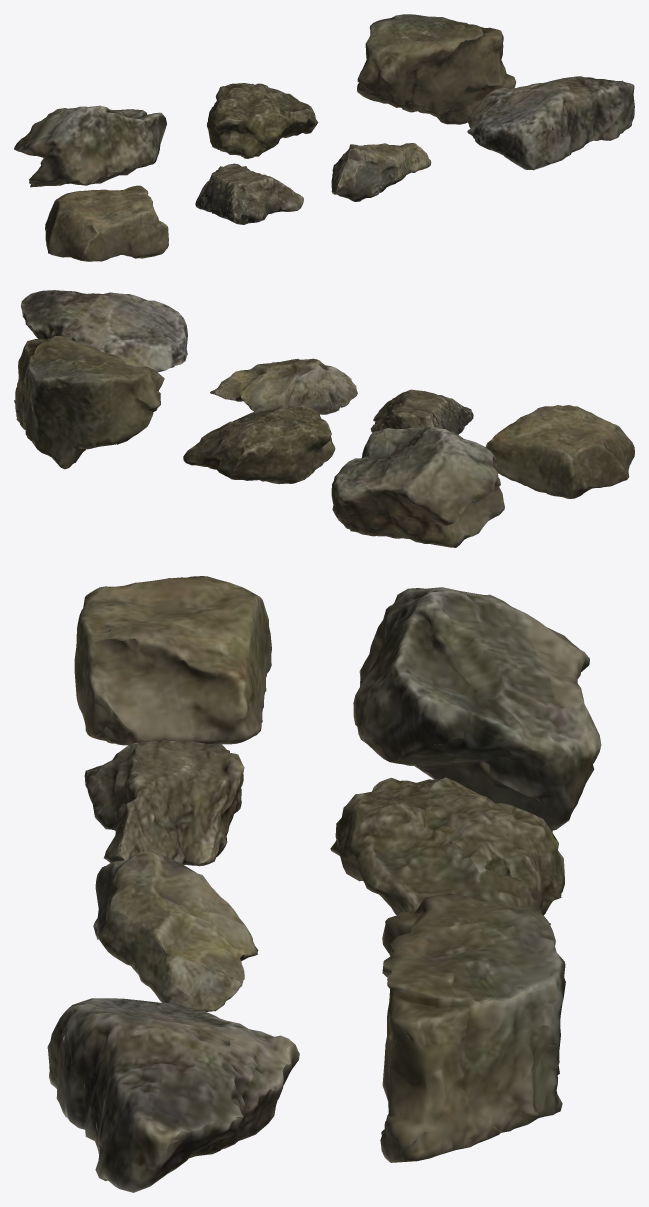
File: rock_moss_set_02.glb
3 renders of one model, top to bottom at view 1: azimuth 30°, elevation 25°; view 2: azimuth 150°, elevation 25°; view 3: azimuth 270°, elevation 25°, orthographic. The views are drawn at different scales.
Visible parts, largest first — view 1: rock_moss_set_02_rock13, rock_moss_set_02_rock10, rock_moss_set_02_rock11, rock_moss_set_02_rock07, rock_moss_set_02_rock12, rock_moss_set_02_rock08, rock_moss_set_02_rock09; view 2: rock_moss_set_02_rock11, rock_moss_set_02_rock13, rock_moss_set_02_rock07, rock_moss_set_02_rock10, rock_moss_set_02_rock12, rock_moss_set_02_rock09, rock_moss_set_02_rock08; view 3: rock_moss_set_02_rock13, rock_moss_set_02_rock11, rock_moss_set_02_rock10, rock_moss_set_02_rock07, rock_moss_set_02_rock12, rock_moss_set_02_rock09, rock_moss_set_02_rock08.
Part boxes in pixels (x1=…): rock_moss_set_02_rock13: x1=357, y1=14, x2=516, y2=124; rock_moss_set_02_rock10: x1=467, y1=76, x2=634, y2=170; rock_moss_set_02_rock11: x1=14, y1=105, x2=166, y2=187; rock_moss_set_02_rock07: x1=45, y1=185, x2=168, y2=261; rock_moss_set_02_rock12: x1=206, y1=83, x2=318, y2=158; rock_moss_set_02_rock08: x1=195, y1=163, x2=303, y2=224; rock_moss_set_02_rock09: x1=331, y1=143, x2=431, y2=201; rock_moss_set_02_rock11: x1=331, y1=426, x2=504, y2=547; rock_moss_set_02_rock13: x1=14, y1=336, x2=164, y2=469; rock_moss_set_02_rock07: x1=485, y1=405, x2=634, y2=498; rock_moss_set_02_rock10: x1=21, y1=290, x2=187, y2=372; rock_moss_set_02_rock12: x1=183, y1=405, x2=335, y2=484; rock_moss_set_02_rock09: x1=210, y1=358, x2=357, y2=414; rock_moss_set_02_rock08: x1=370, y1=389, x2=473, y2=434; rock_moss_set_02_rock13: x1=380, y1=894, x2=565, y2=1162; rock_moss_set_02_rock11: x1=353, y1=587, x2=601, y2=832; rock_moss_set_02_rock10: x1=47, y1=998, x2=299, y2=1192; rock_moss_set_02_rock07: x1=74, y1=576, x2=271, y2=745; rock_moss_set_02_rock12: x1=330, y1=777, x2=564, y2=925; rock_moss_set_02_rock09: x1=93, y1=850, x2=258, y2=1011; rock_moss_set_02_rock08: x1=84, y1=740, x2=244, y2=866.
Size of the model in its own units: 8.28 by 1.36 by 3.41.
1 material, 1 textured.
